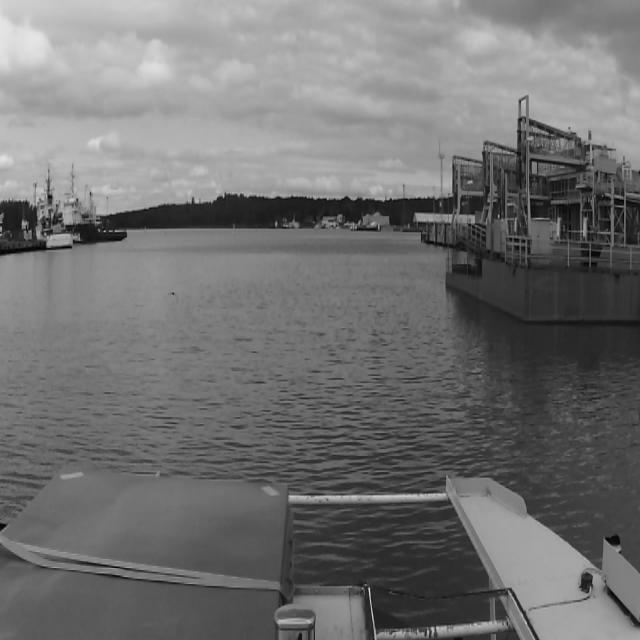ship: (54, 163, 128, 245), (350, 217, 384, 235)
